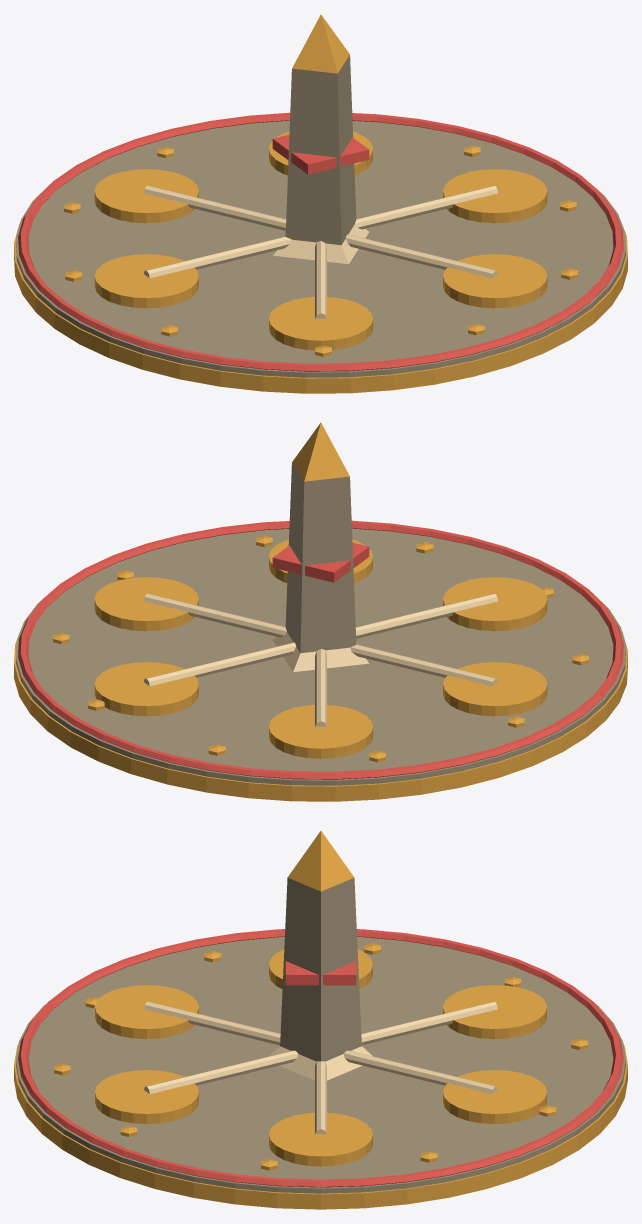
The model's file is ParkParkCamelHub.obj.
The picture shows the model from 3 angles, top to bottom: view 1: azimuth 30°, elevation 25°; view 2: azimuth 150°, elevation 25°; view 3: azimuth 270°, elevation 25°; orthographic projection.
Parts seen in each view (by area): view 1: ParkParkCamelHub; view 2: ParkParkCamelHub; view 3: ParkParkCamelHub.
Boxes of the visible parts, box(x1,y1,x2,y2) form: ParkParkCamelHub: box(14, 14, 627, 393); ParkParkCamelHub: box(14, 422, 627, 801); ParkParkCamelHub: box(14, 831, 627, 1209).
Size of the model in its own units: 16.5 by 7.4 by 16.5.
